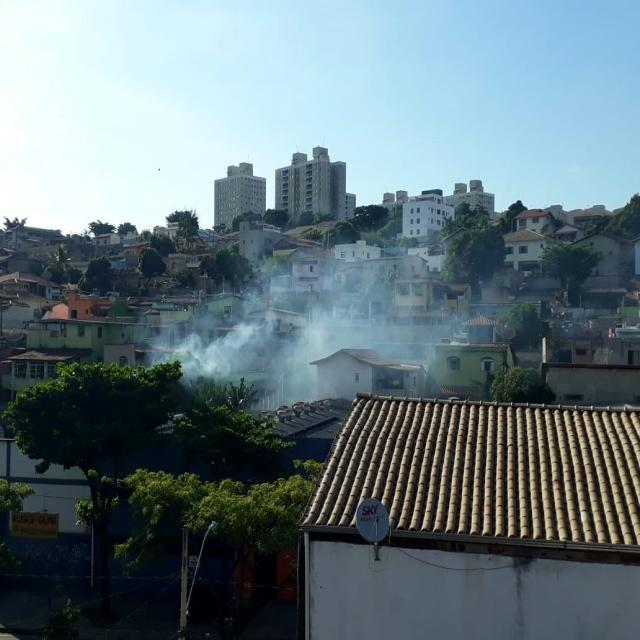Smoke: (191, 235, 502, 404)
